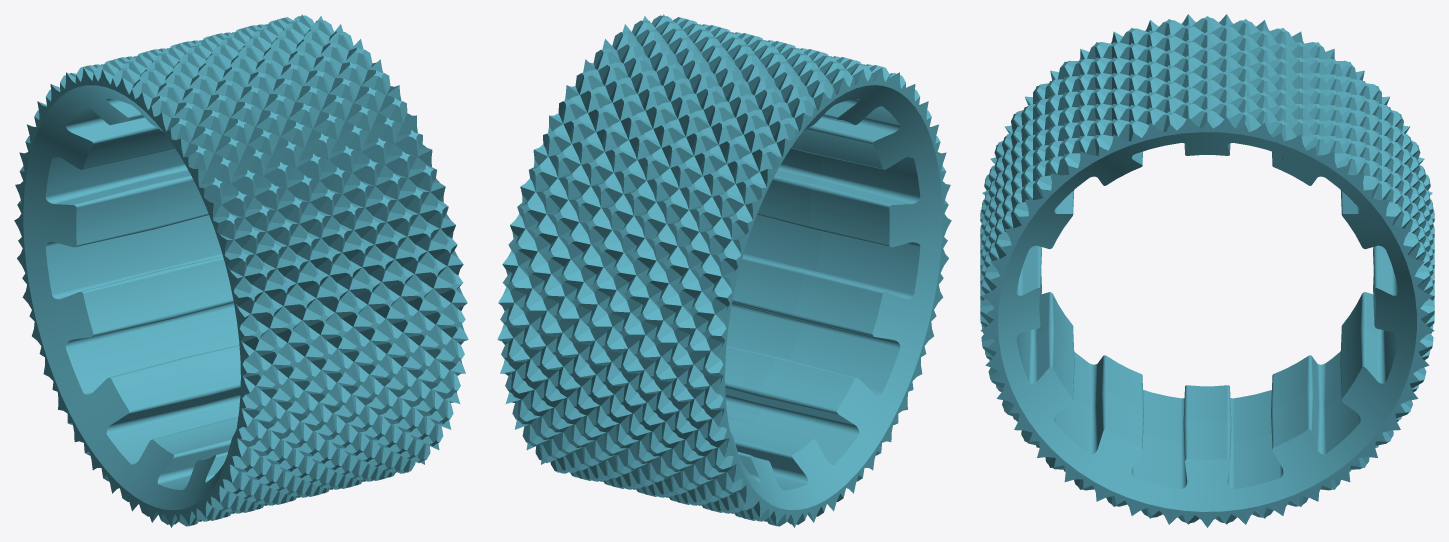
The model's file is 2026ricoWheel.glb.
3 views of the same model, side by side, from view 1: azimuth 30°, elevation 25°; view 2: azimuth 150°, elevation 25°; view 3: azimuth 270°, elevation 25° (orthographic). The views are drawn at different scales.
Parts seen in each view (by area): view 1: Default - Part; view 2: Default - Part; view 3: Default - Part.
Part boxes in pixels (x1,y1,x2,y2): Default - Part: (14, 14, 468, 527); Default - Part: (497, 14, 951, 527); Default - Part: (980, 14, 1434, 527).
Bounding box in the file's own units: 0.0476 × 0.0889 × 0.0889.
